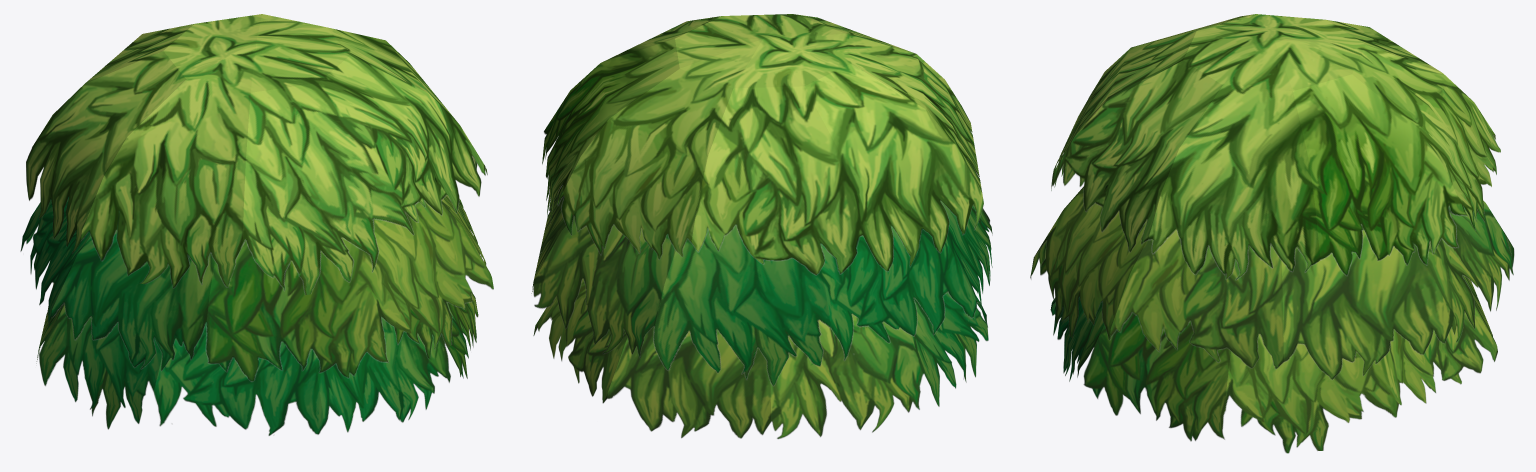
Rendered from bush-one.glb.
3 views of the same model, side by side, from view 1: azimuth 30°, elevation 25°; view 2: azimuth 150°, elevation 25°; view 3: azimuth 270°, elevation 25° (orthographic).
Parts seen in each view (by area): view 1: Bush; view 2: Bush; view 3: Bush.
Part boxes in pixels (left/top/right/bottom): Bush: left=20, top=14, right=493, bottom=435; Bush: left=531, top=14, right=992, bottom=439; Bush: left=1030, top=14, right=1514, bottom=453.
Bounding box in the file's own units: 4.48 × 3.2 × 4.48.
Materials: 1 (1 with a texture image).
